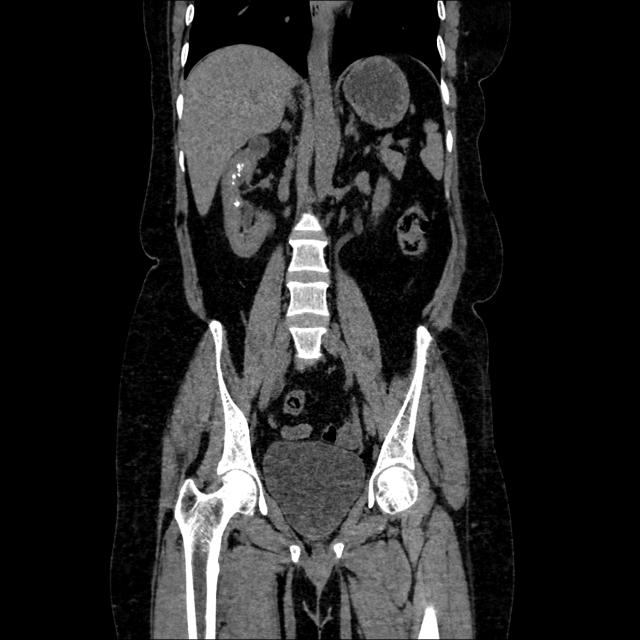kidney: (224, 144, 275, 248)
stone: (235, 201, 239, 207), (232, 174, 236, 178), (238, 164, 240, 171), (238, 172, 240, 176), (232, 182, 235, 184)
